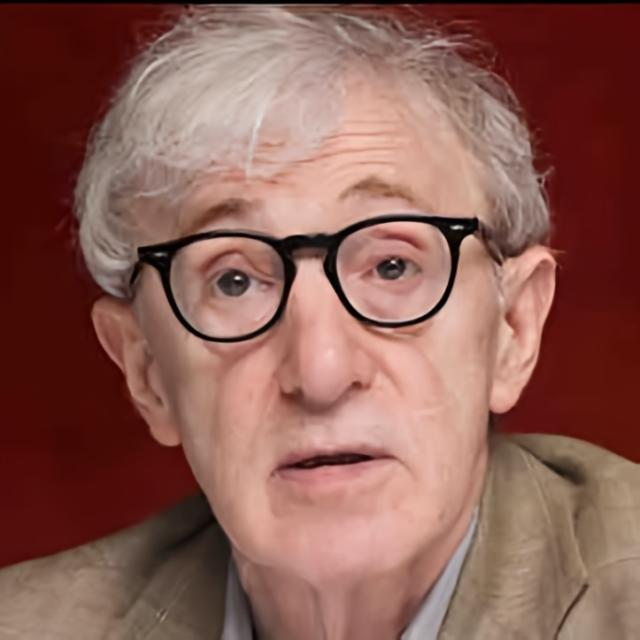surprise: (138, 57, 500, 578)
